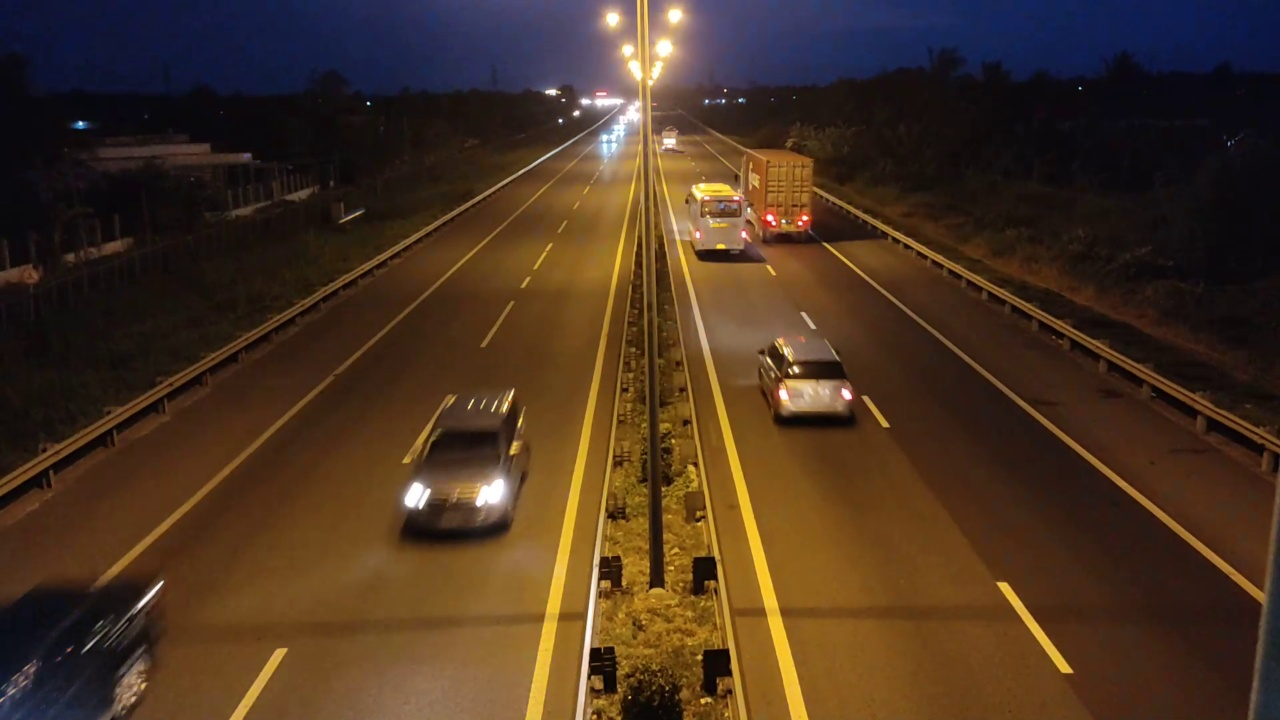bus: (685, 181, 753, 257)
car: (0, 575, 169, 719), (397, 387, 531, 539), (757, 334, 857, 425)
truck: (739, 145, 815, 244)
